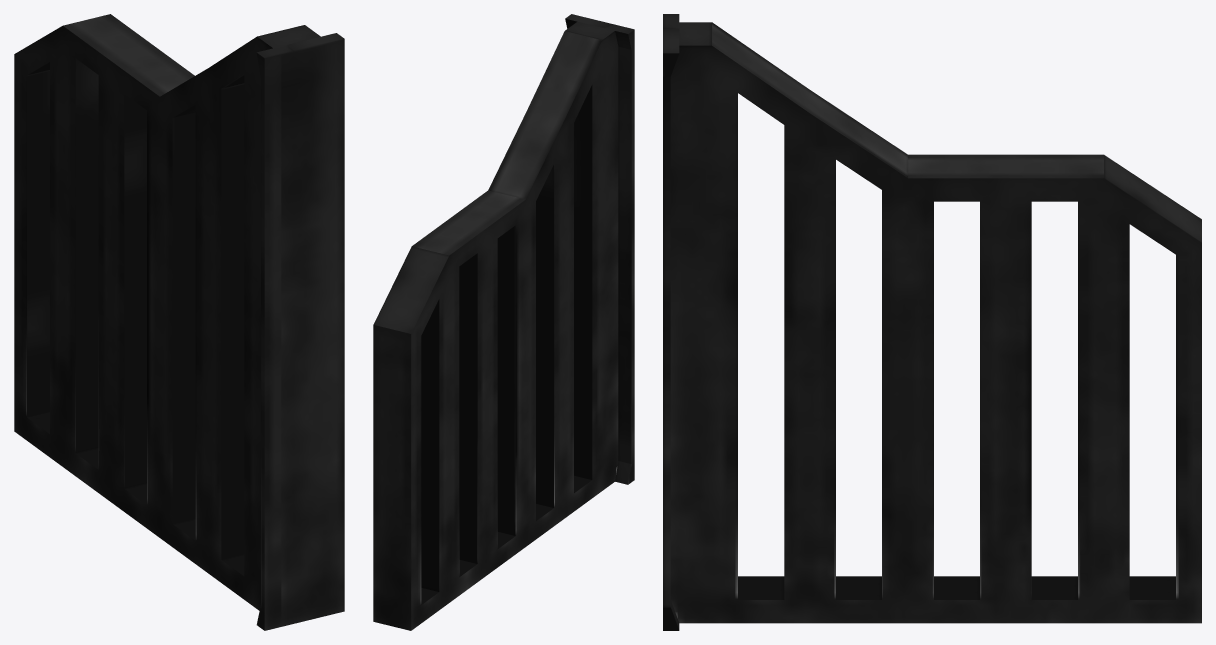
File: PortaPortaoZefir.fbx
The picture shows the model from 3 angles, left to right: view 1: azimuth 30°, elevation 25°; view 2: azimuth 150°, elevation 25°; view 3: azimuth 270°, elevation 25°; orthographic projection. The views are drawn at different scales.
Parts seen in each view (by area): view 1: PortaoDireito; view 2: PortaoDireito; view 3: PortaoDireito.
Part boxes in pixels (x1,y1,x2,y2): PortaoDireito: (14, 14, 344, 630); PortaoDireito: (373, 14, 634, 630); PortaoDireito: (663, 14, 1201, 630).
Bounding box in the file's own units: 132 × 903 × 764.
1 material, 1 textured.
